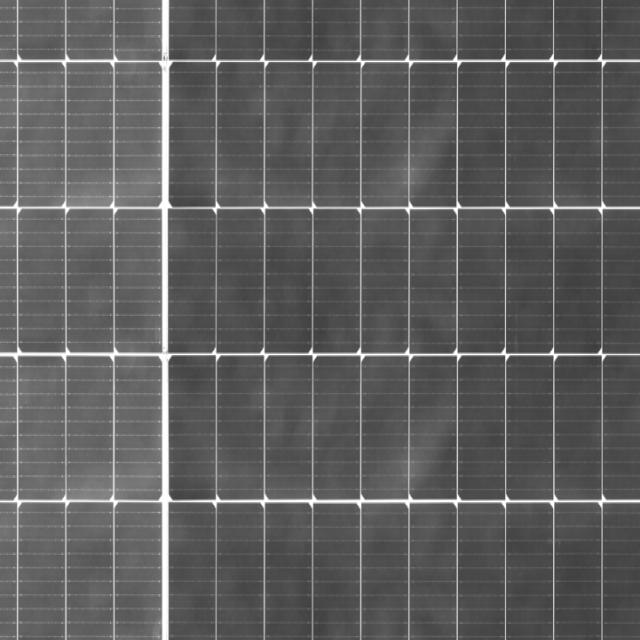CORRECT: (302, 0, 640, 640), (147, 0, 375, 640), (0, 0, 195, 640)
